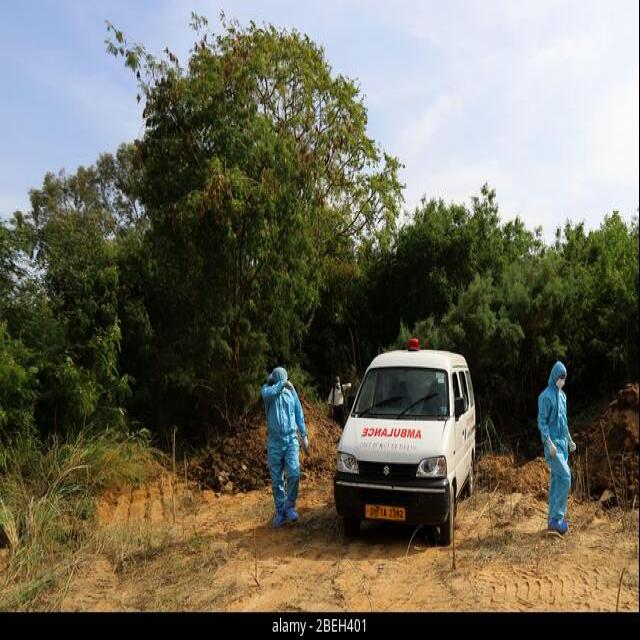emergency: (334, 340, 475, 544)
